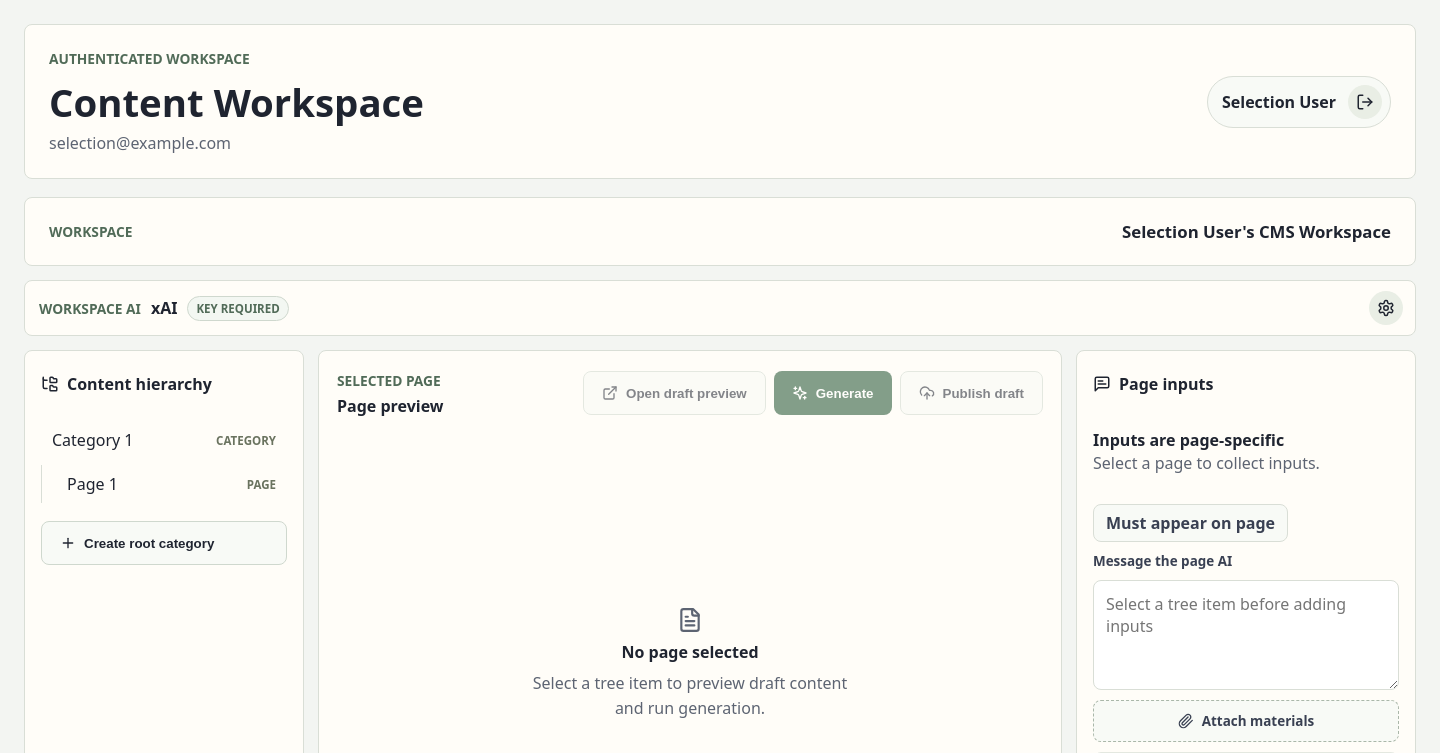
Scenario: page selection and context loading › selecting a page loads page preview and page-specific context panel
Click the button "Page 1 page": (172, 484) top-left (56, 465), bottom-right (287, 503)
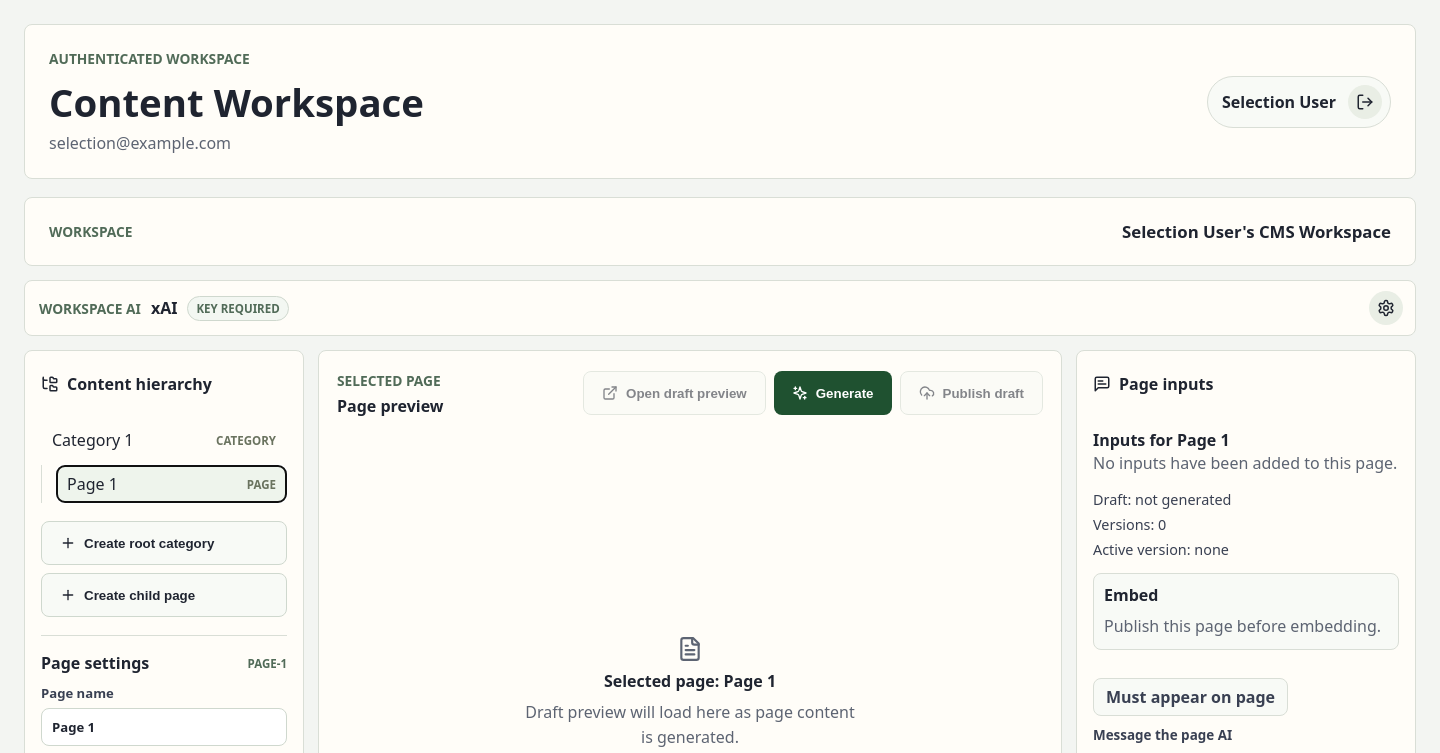
Check: the text "Selected page: Page 1" is shown, box top-left (604, 670), bottom-right (776, 692)
Check: the text "Inputs for Page 1" is shown, box top-left (1093, 429), bottom-right (1230, 451)
Check: the text "No inputs have been added to this page." is shown, box top-left (1093, 451), bottom-right (1399, 476)
